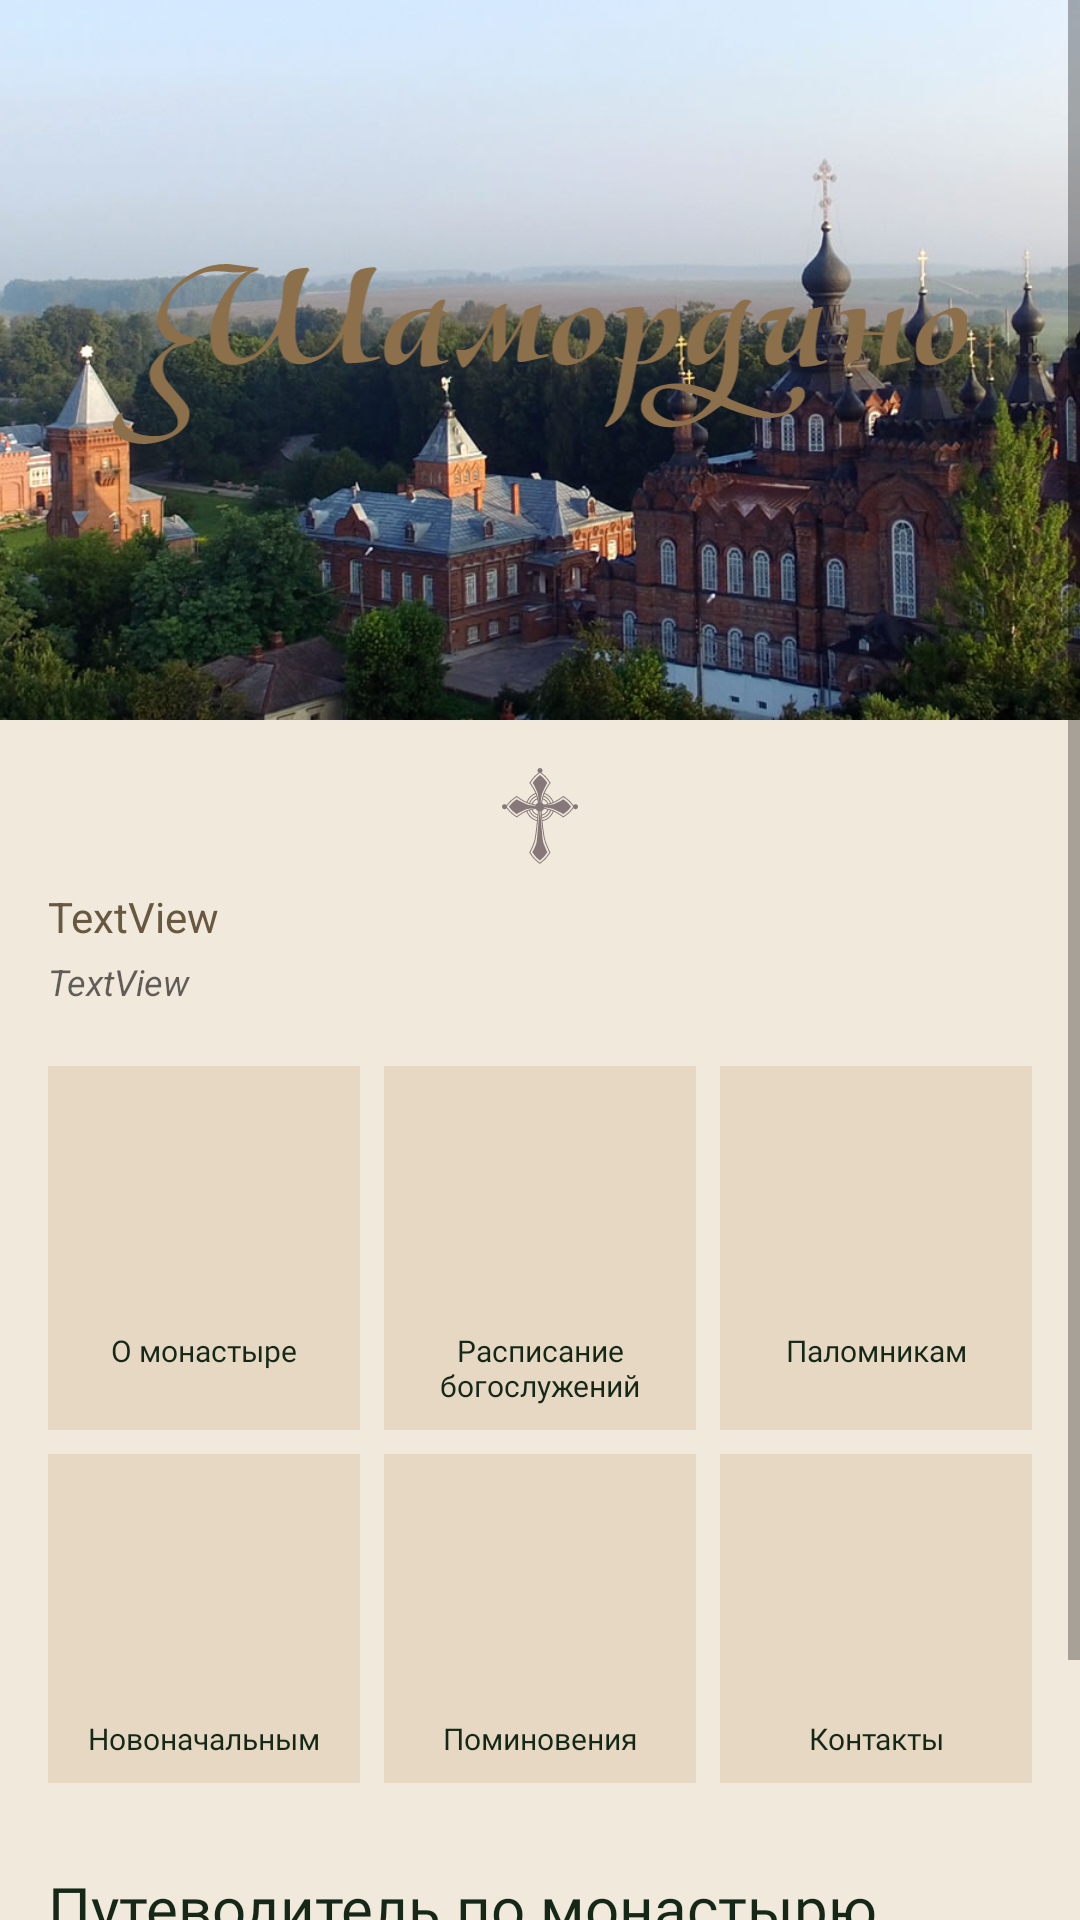

Icon click points for this 1080*1920 phone screenshot, format [x,y]:
cross: [540,816]
